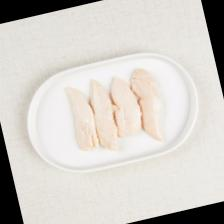chicken: (125, 64, 170, 146), (84, 76, 122, 154), (104, 72, 145, 138), (62, 82, 100, 152)
